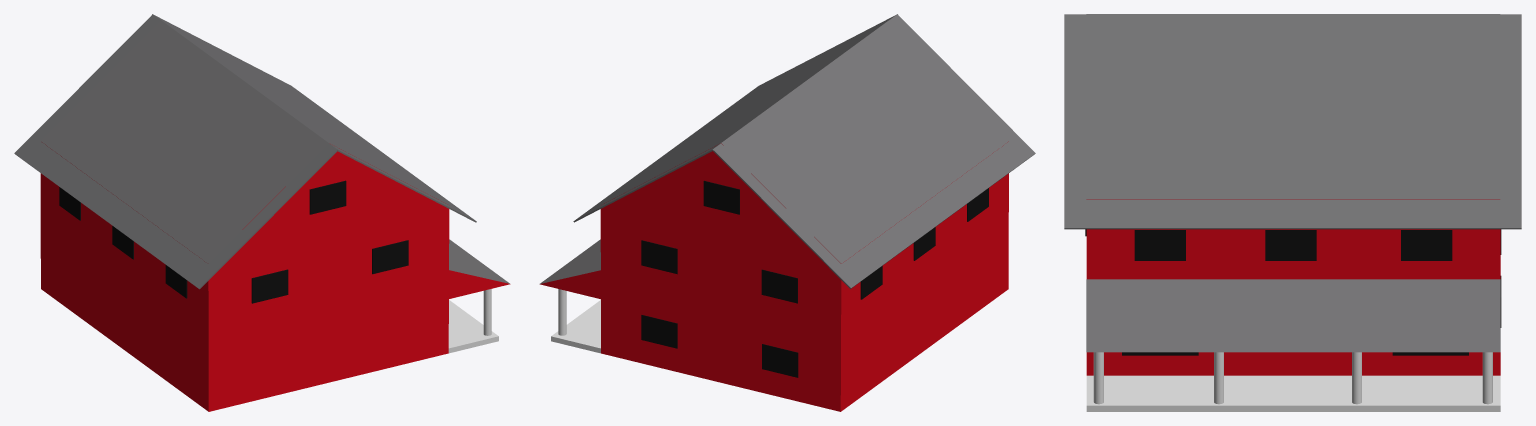
File: red-house.fbx
The picture shows the model from 3 angles, left to right: view 1: azimuth 30°, elevation 25°; view 2: azimuth 150°, elevation 25°; view 3: azimuth 270°, elevation 25°; orthographic projection. The views are drawn at different scales.
Parts seen in each view (by area): view 1: House, Cube.001, Cube, Window.015, Window.014, Window.013; view 2: House, Cube.001, Cube, Window.007, Window.009, Window.006, Window.008, Window.005; view 3: House, Cube.001, Cube, Window.002, Window.003, Window.004, Cylinder.001, Cylinder.003, Cylinder, Cylinder.002.
Part boxes in pixels (left/top/right/bottom): House: left=14, top=14, right=476, bottom=411; Cube.001: left=449, top=239, right=510, bottom=298; Cube: left=448, top=300, right=498, bottom=353; Window.015: left=251, top=269, right=288, bottom=303; Window.014: left=309, top=180, right=346, bottom=214; Window.013: left=372, top=240, right=408, bottom=274; House: left=573, top=14, right=1035, bottom=411; Cube.001: left=539, top=239, right=600, bottom=299; Cube: left=551, top=300, right=600, bottom=353; Window.007: left=703, top=180, right=739, bottom=214; Window.009: left=641, top=240, right=677, bottom=274; Window.006: left=761, top=269, right=797, bottom=303; Window.008: left=762, top=344, right=798, bottom=377; Window.005: left=641, top=315, right=677, bottom=348; House: left=1064, top=14, right=1521, bottom=375; Cube.001: left=1086, top=279, right=1500, bottom=352; Cube: left=1086, top=375, right=1500, bottom=411; Window.002: left=1265, top=230, right=1316, bottom=260; Window.003: left=1401, top=230, right=1452, bottom=260; Window.004: left=1134, top=230, right=1185, bottom=260; Cylinder.001: left=1482, top=352, right=1492, bottom=404; Cylinder.003: left=1093, top=352, right=1103, bottom=404; Cylinder: left=1214, top=352, right=1223, bottom=404; Cylinder.002: left=1352, top=352, right=1361, bottom=404.
Size of the model in its own units: 253 by 181 by 254.
